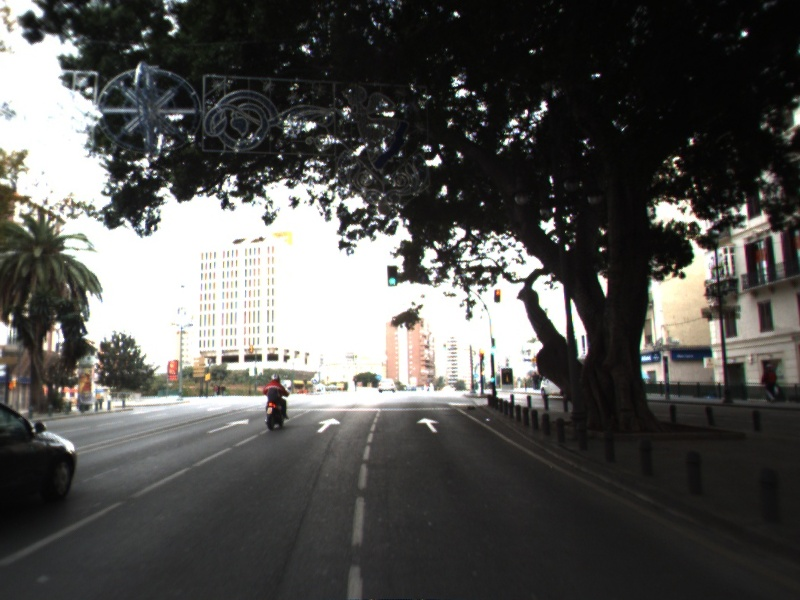STRAIGHT: (204, 417, 251, 435), (314, 416, 343, 435), (414, 415, 441, 435)
